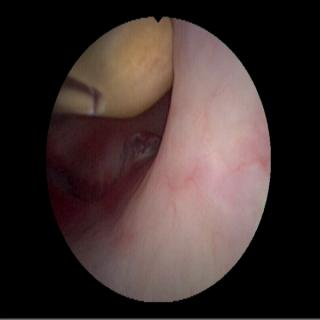stone: (56, 19, 172, 118)
tissue: (50, 24, 267, 297)
